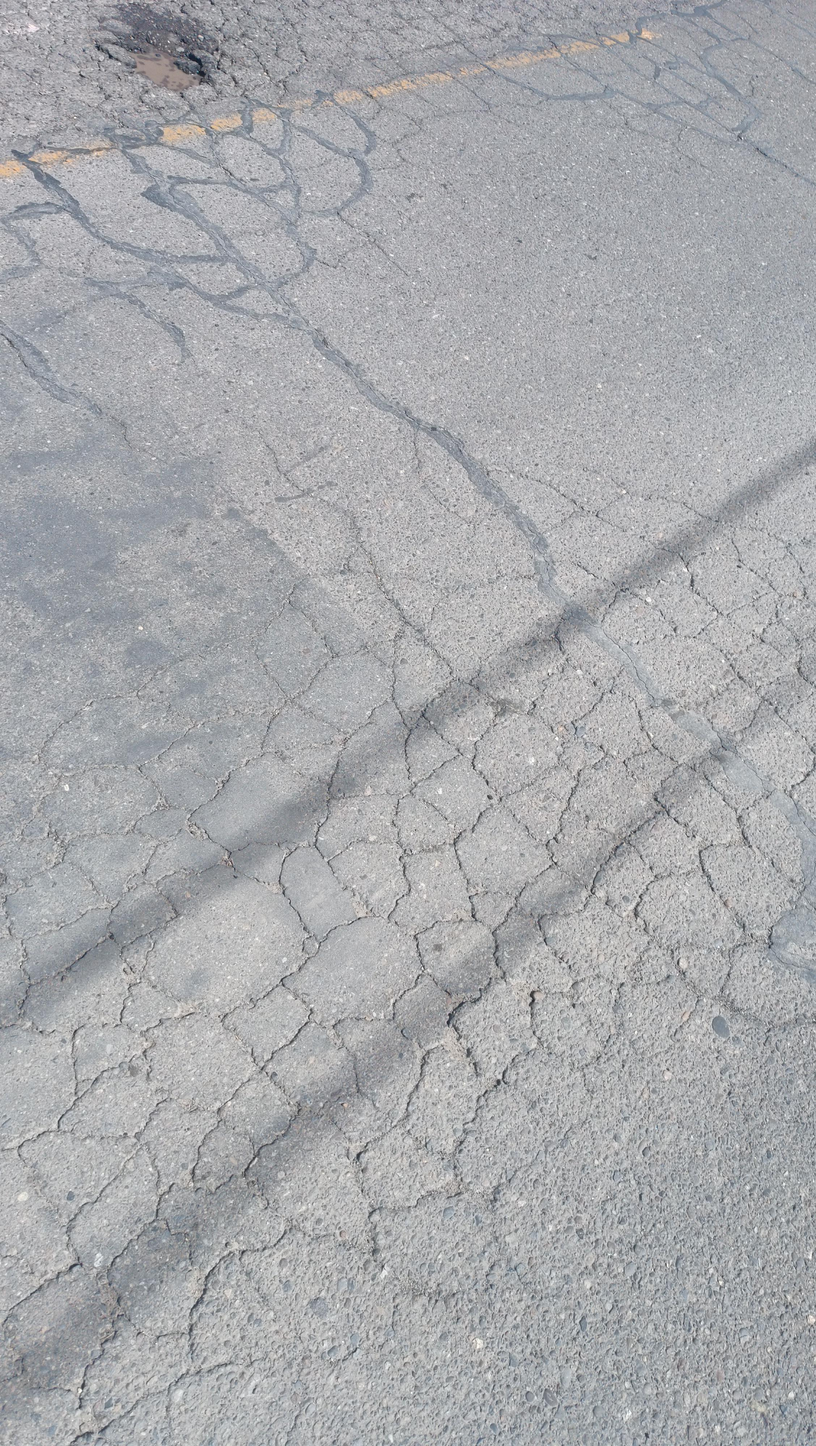BACHE: (127, 34, 203, 92)
GRIETA: (283, 301, 469, 461), (33, 374, 166, 464), (259, 436, 356, 529)
PIEL DE COCODRILO: (0, 454, 816, 1446), (0, 0, 816, 392)
